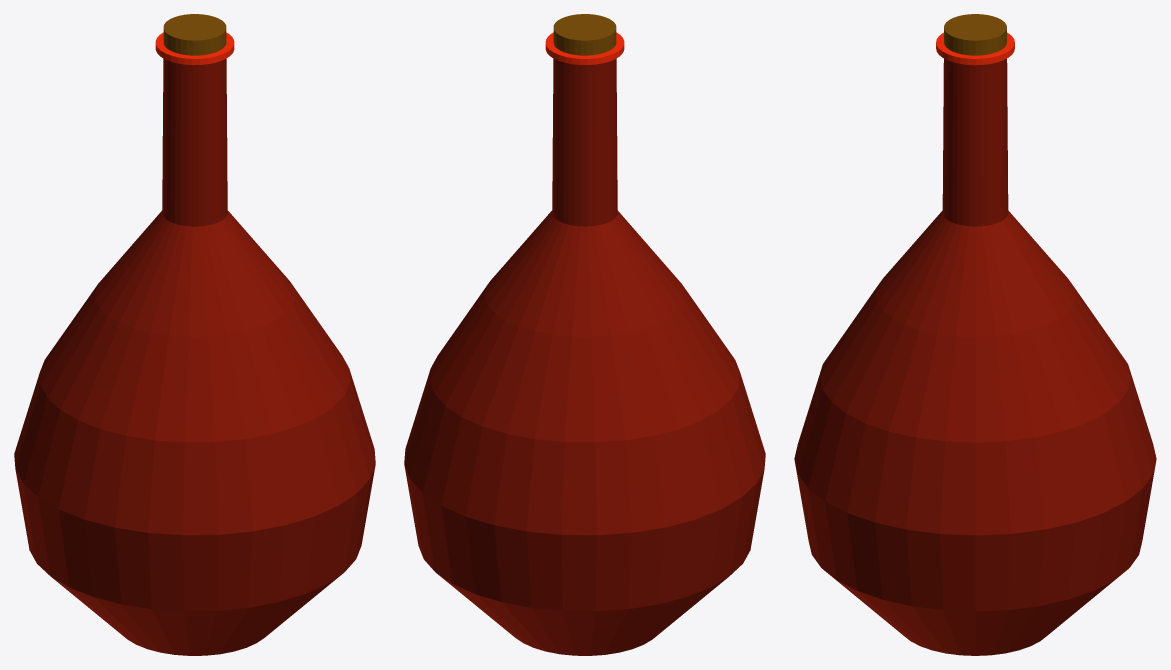
Rendered from jar2.fbx.
3 renders of one model, left to right at view 1: azimuth 30°, elevation 25°; view 2: azimuth 150°, elevation 25°; view 3: azimuth 270°, elevation 25°, orthographic.
Parts seen in each view (by area): view 1: jar2; view 2: jar2; view 3: jar2.
Part boxes in pixels (x1,y1,x2,y2): jar2: [14, 14, 375, 655]; jar2: [404, 14, 765, 655]; jar2: [794, 14, 1156, 655].
Size of the model in its own units: 465 by 844 by 465.
